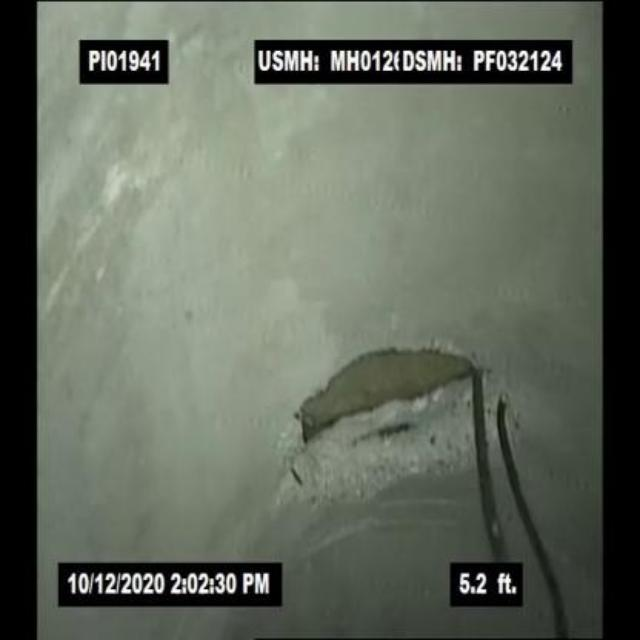Hole: (271, 334, 522, 495)
